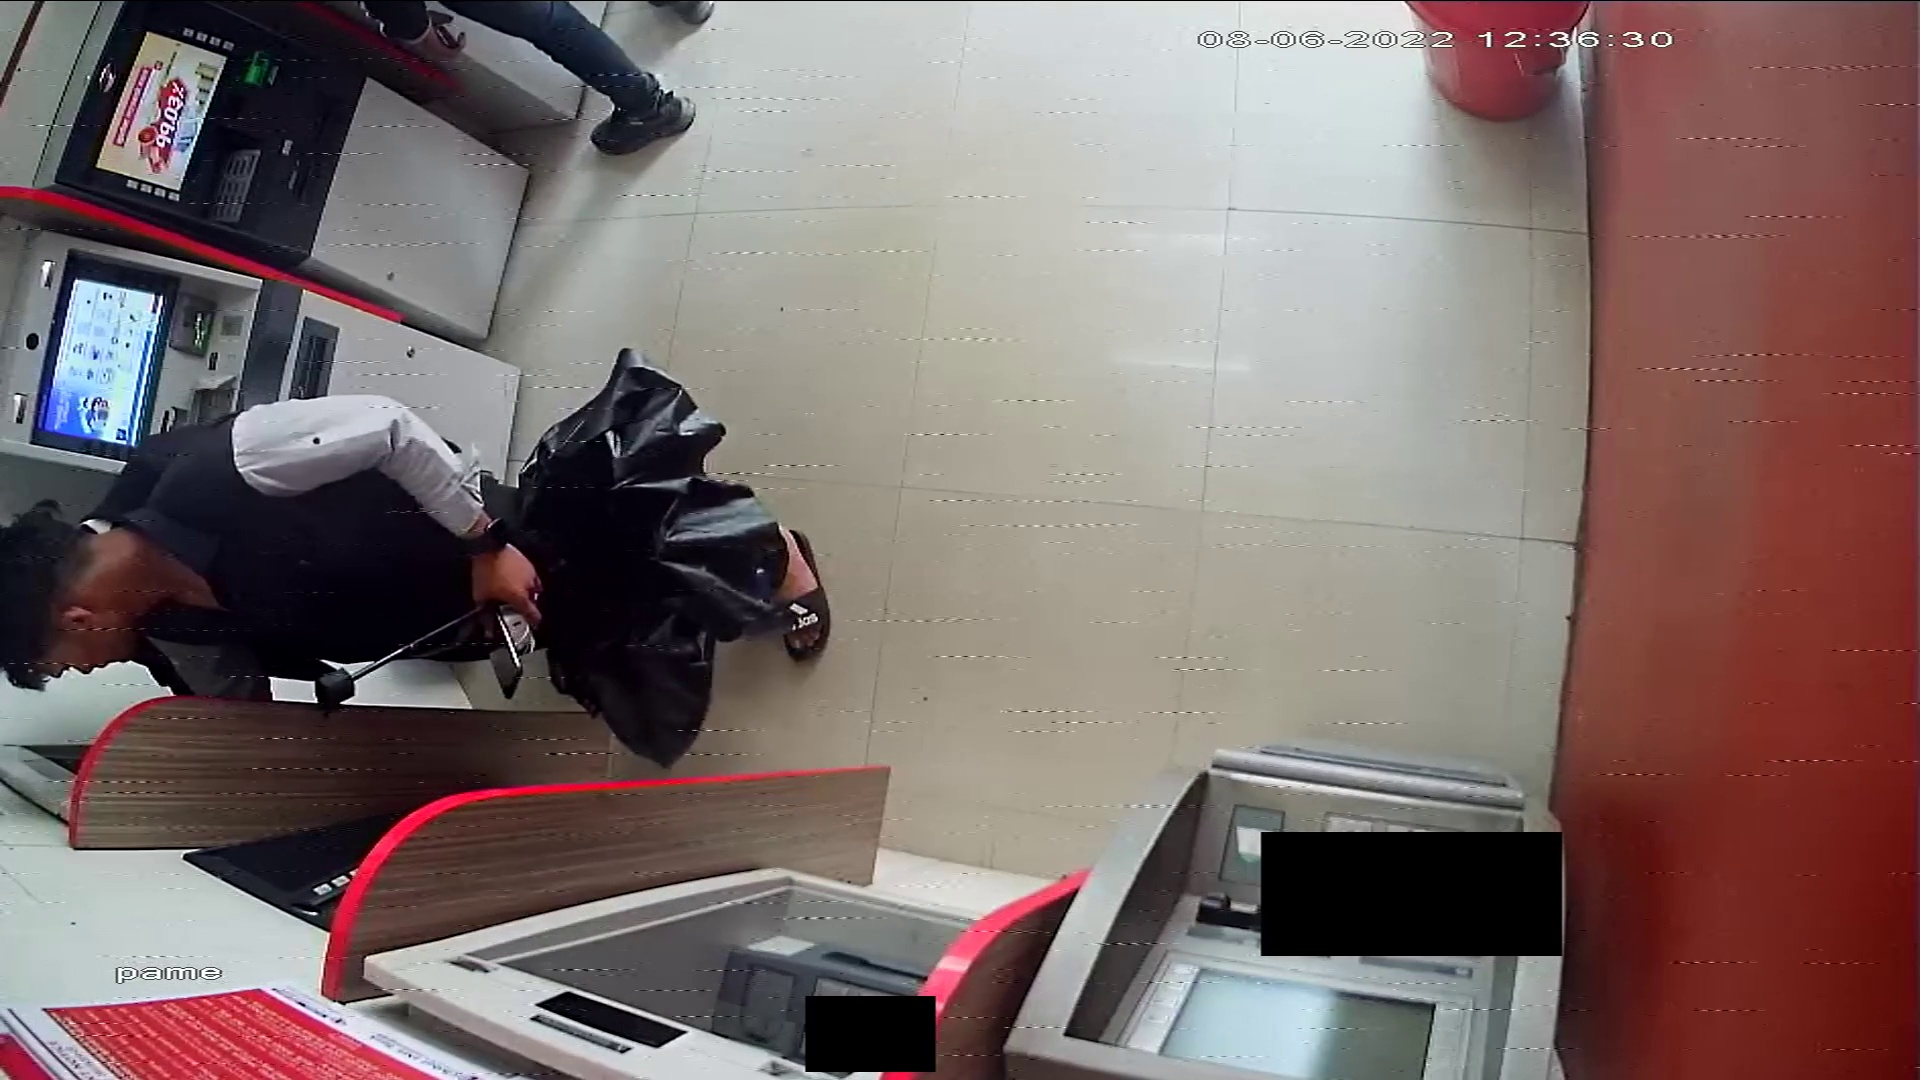person: (1, 394, 840, 694)
